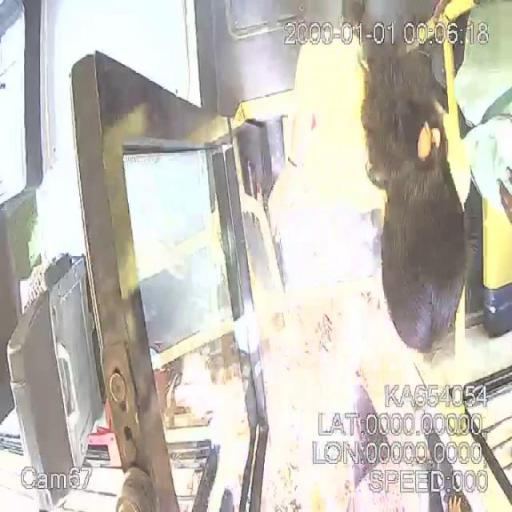persona: (349, 0, 477, 354)
